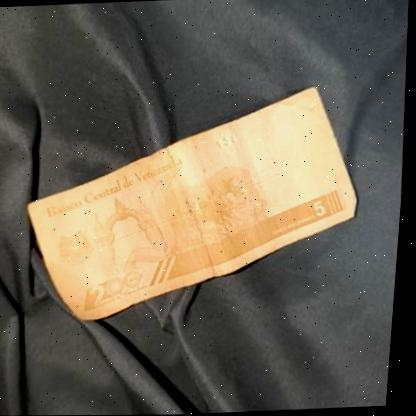five-back-vef: (17, 81, 373, 327)
